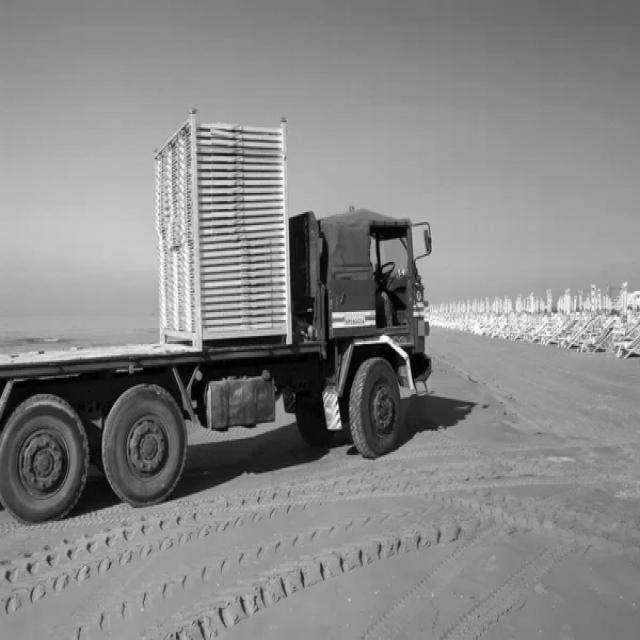Truck: (0, 111, 432, 522)
